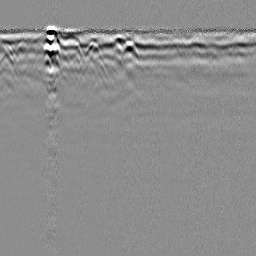cavity: (121, 37, 138, 59)
